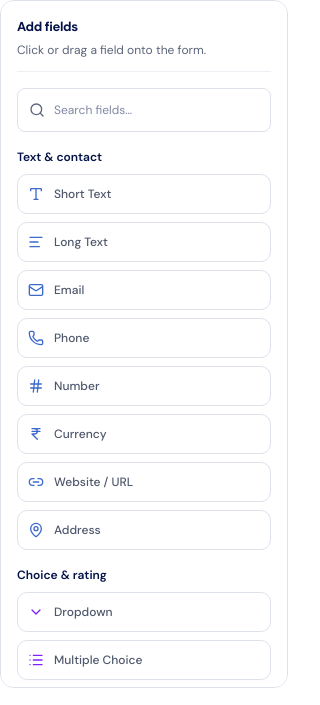
Test: Toolbox › search filters across groups and hides empty groups
The image size is (320, 705).
Type "upload" into the search field labelled "Search fields" at (144, 110), box [17, 88, 271, 132]
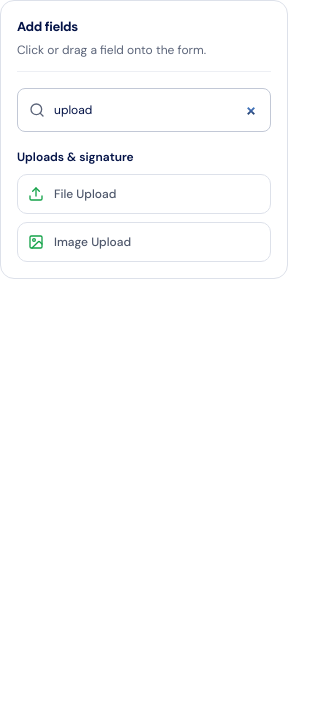
Check: the button titled "File Upload" is shown, box [17, 174, 271, 214]
Check: the button titled "Image Upload" is shown, box [17, 222, 271, 262]
Check: the button titled "Short Text" is gone
